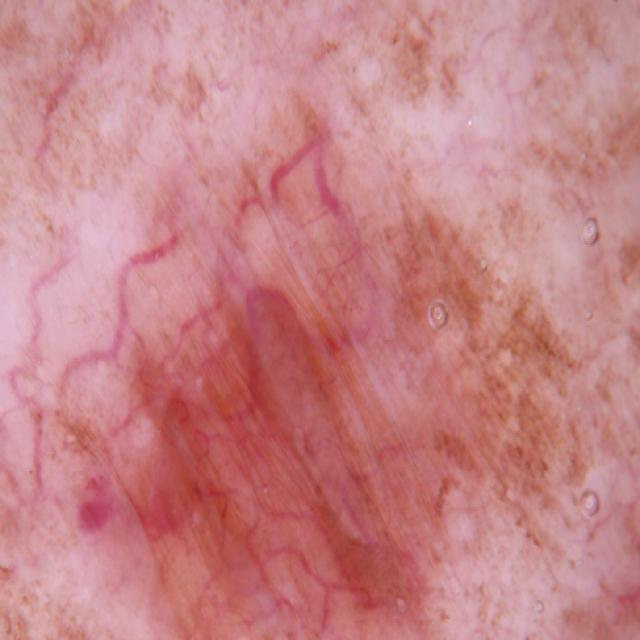Carcinoma: (45, 167, 578, 640)
